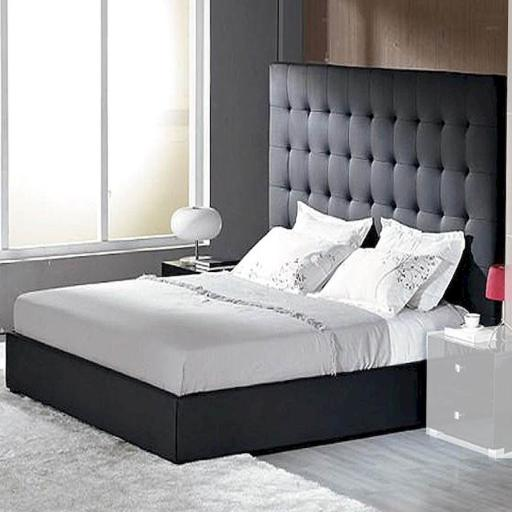bed: (5, 60, 508, 465)
